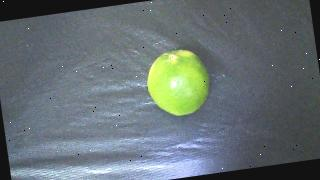LOCAL: (143, 46, 214, 120)
